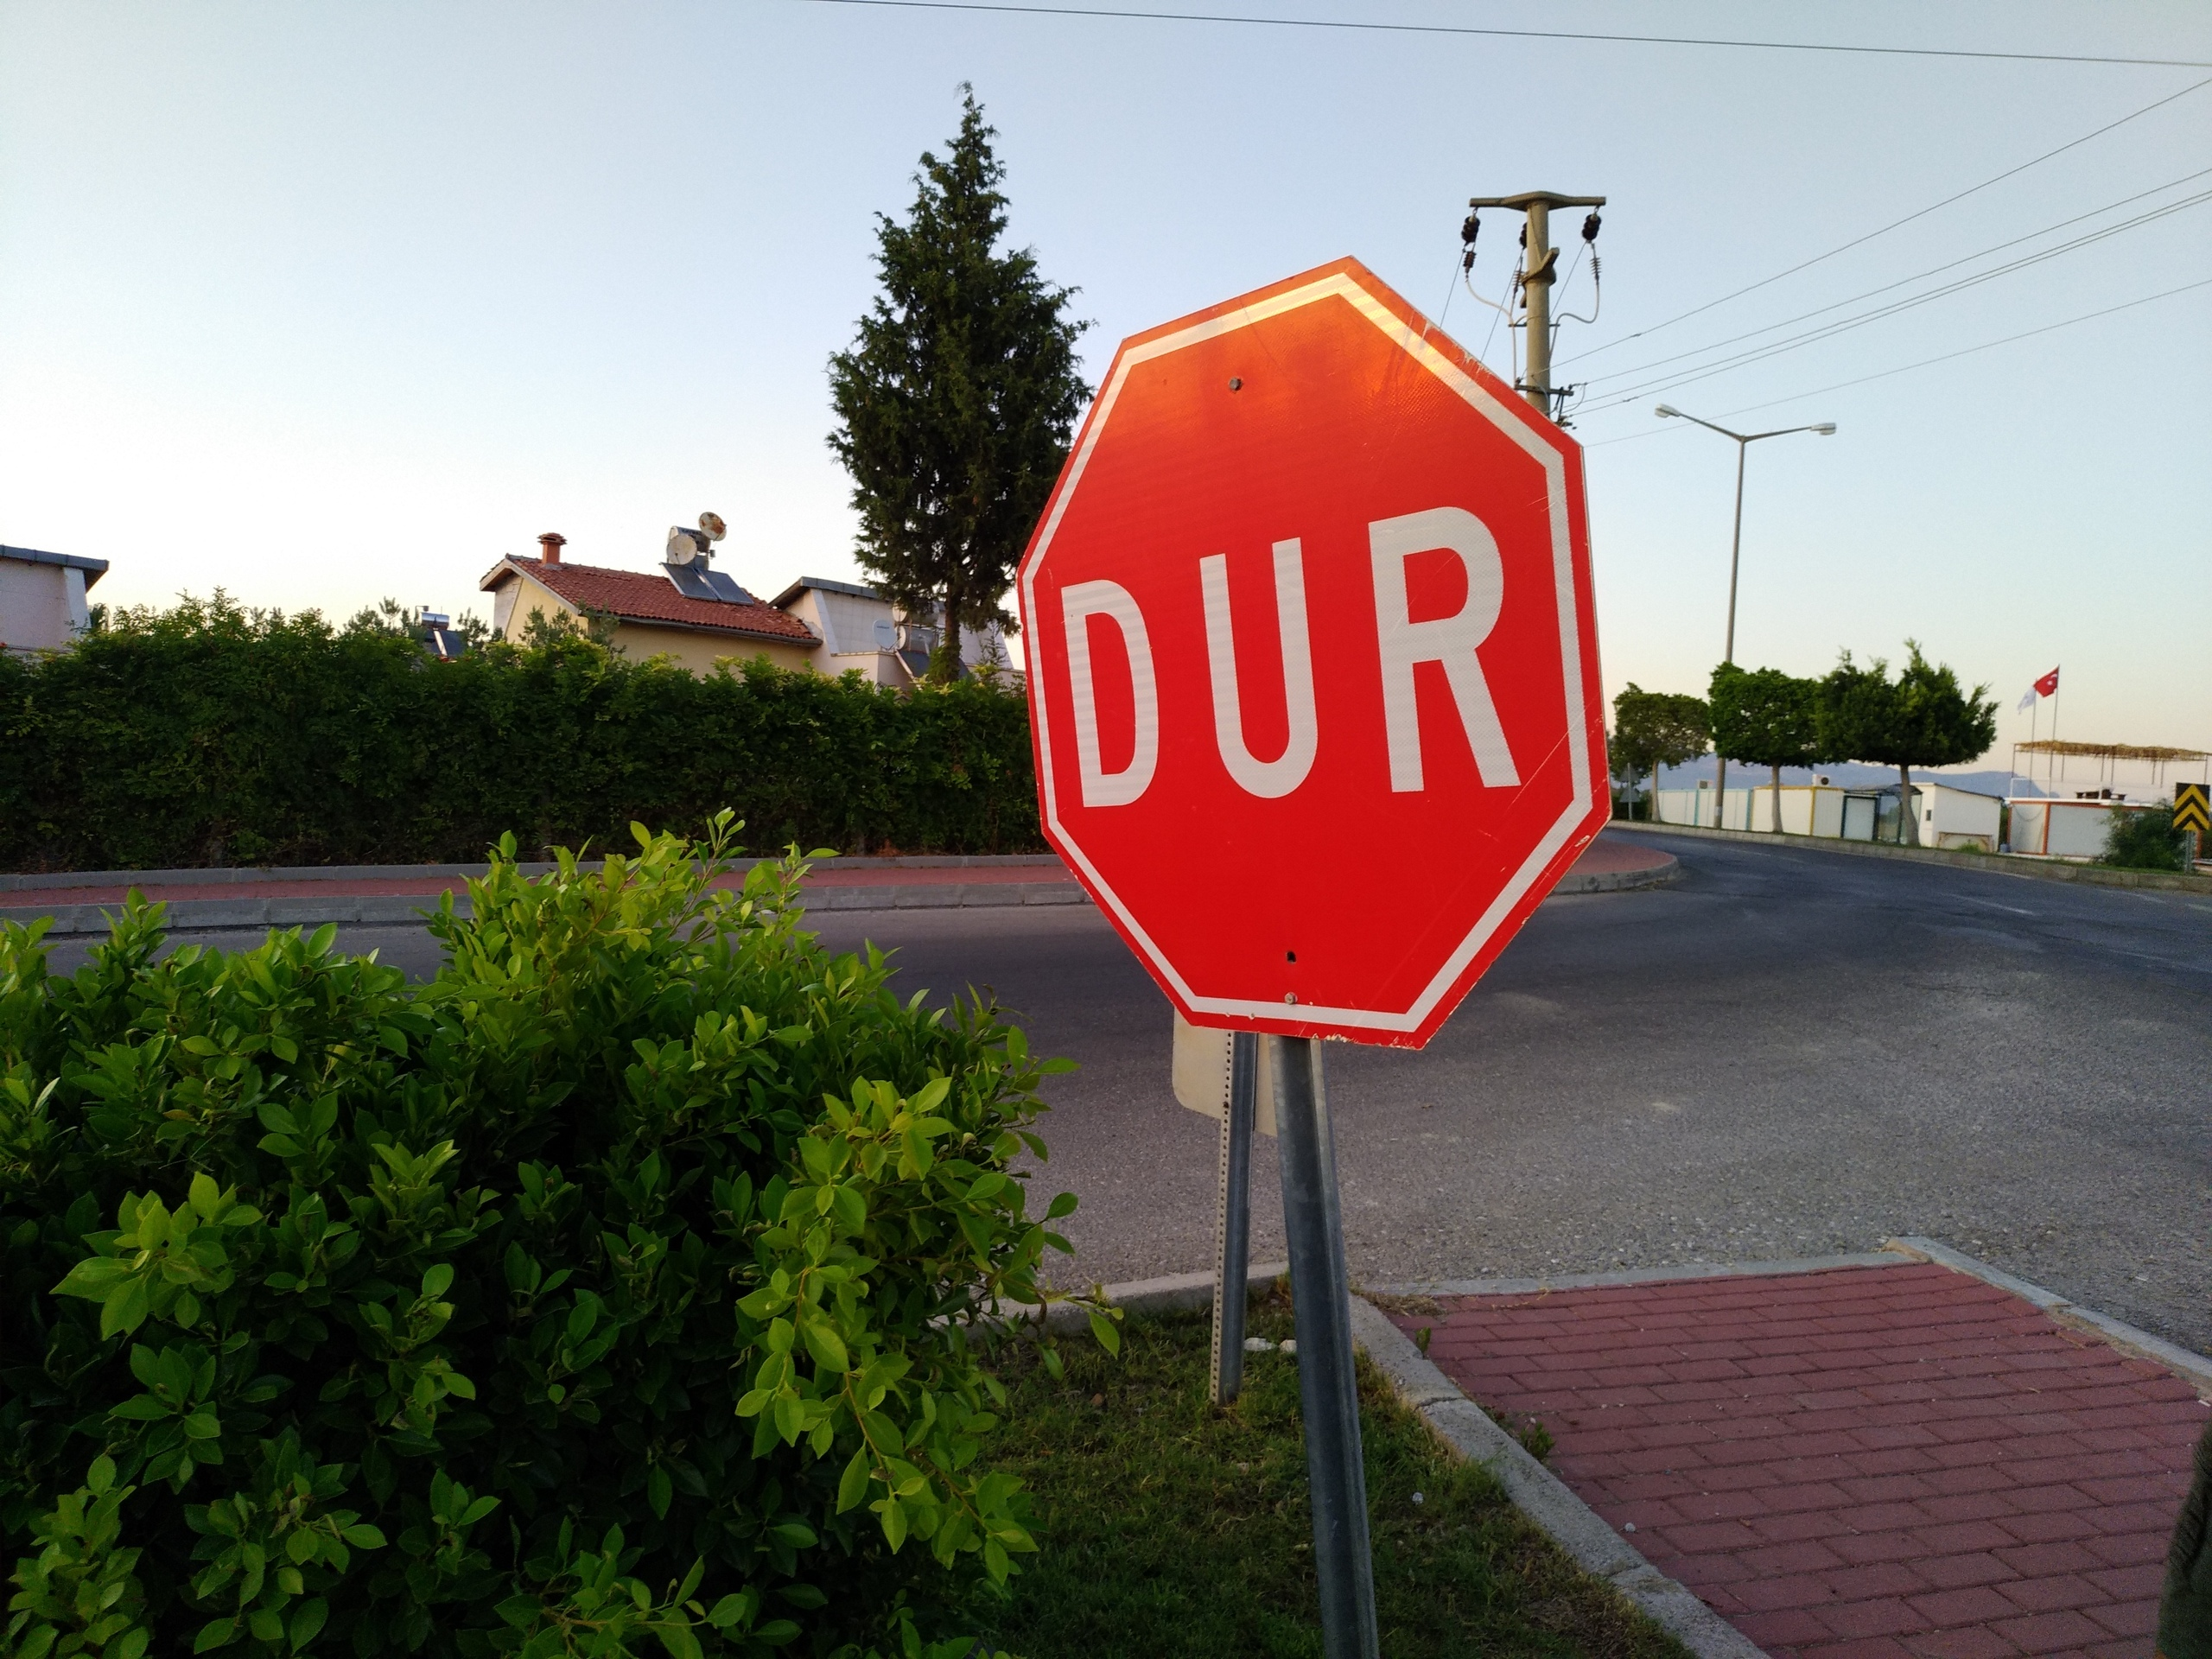dur: (1001, 265, 1611, 1061)
